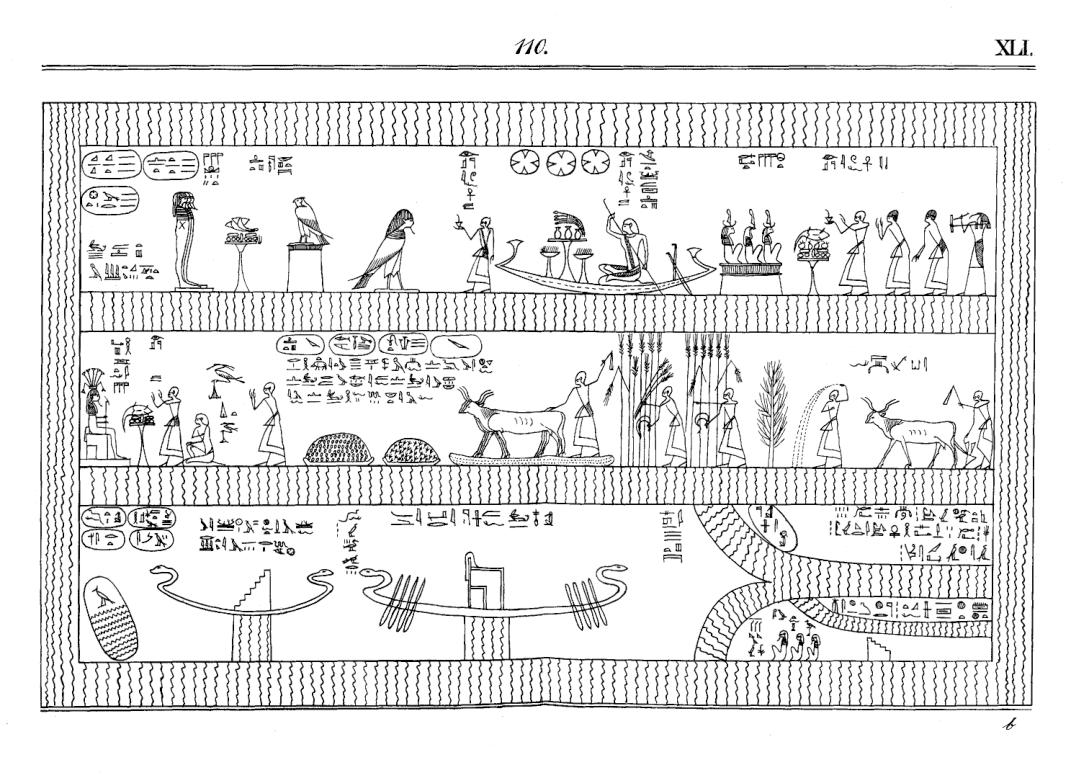circle: (79, 571, 152, 661), (741, 499, 812, 558), (82, 145, 142, 184), (141, 146, 202, 181), (82, 186, 143, 216), (429, 331, 484, 360), (268, 332, 328, 357), (377, 331, 430, 357), (326, 331, 377, 358), (126, 506, 179, 528), (127, 529, 179, 550), (79, 505, 128, 527), (79, 531, 125, 550)
